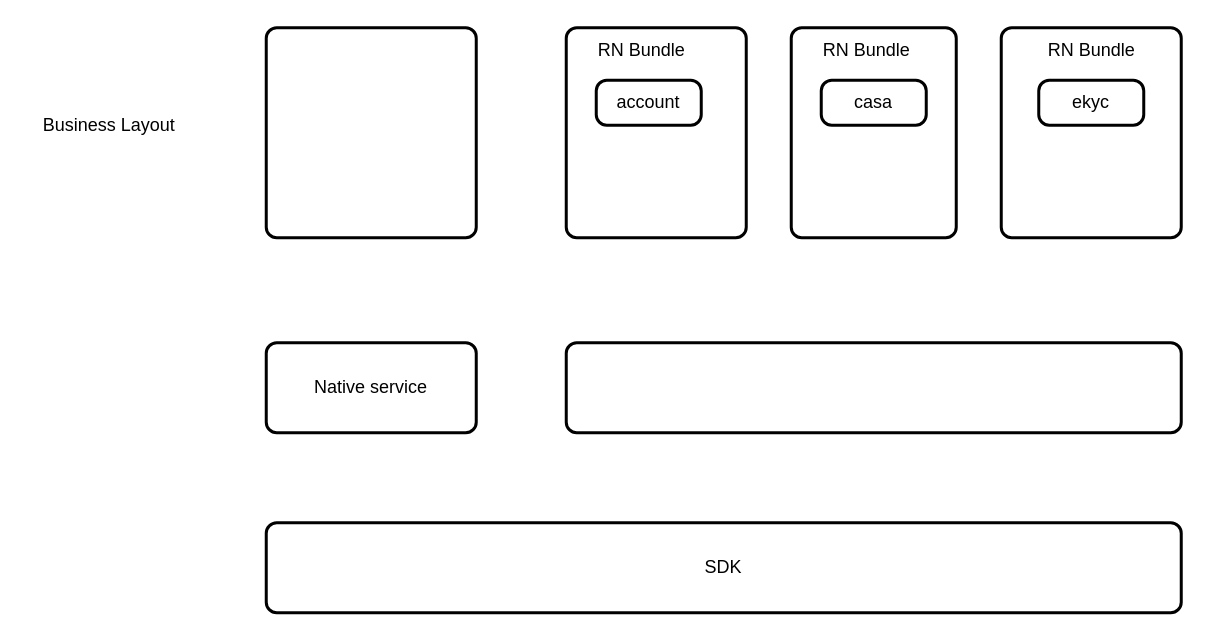
Image size: 1208x639. Some labels were removed from this diagram. Each missing label, with the centre of its shape:
"RN service" belongs at (x=873, y=387).
"SeaBankAppMain" belongs at (x=370, y=132).
